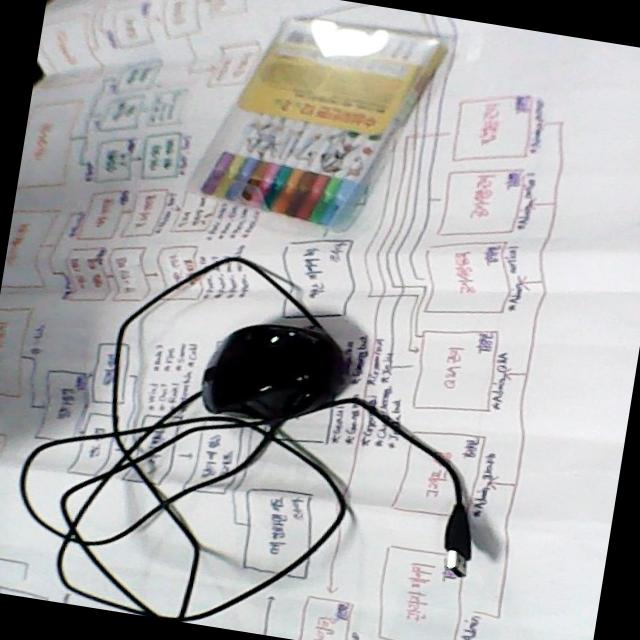mouse: (191, 317, 354, 427)
signpen: (178, 2, 462, 239)
